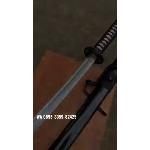Pedang: (33, 20, 117, 128)
